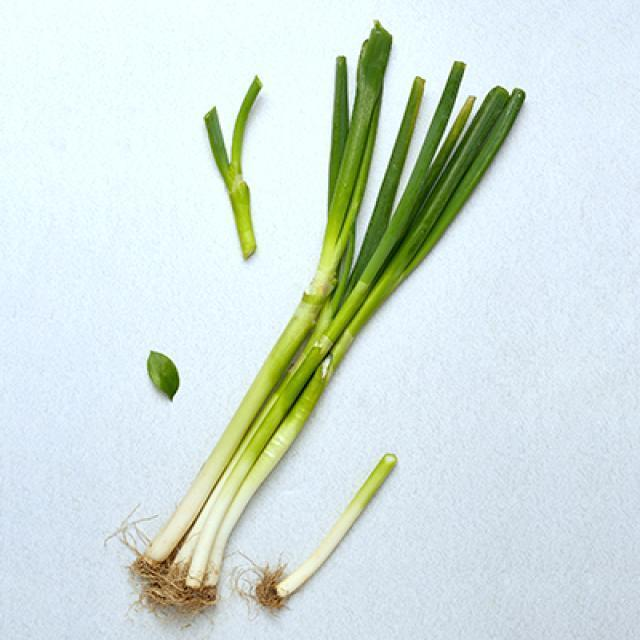green_onion: (153, 34, 512, 590)
